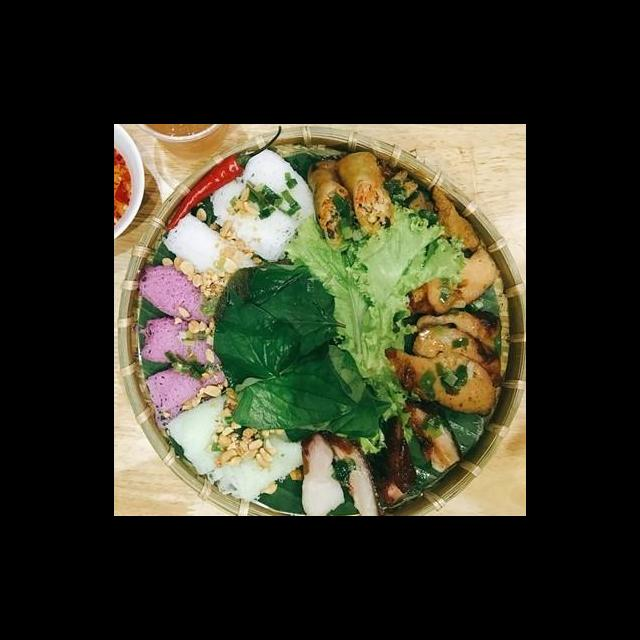banh hoi: (163, 384, 256, 481), (206, 175, 302, 268), (201, 425, 309, 506), (157, 209, 261, 290), (138, 358, 235, 440), (235, 145, 319, 227), (132, 260, 226, 329), (131, 313, 235, 367)
banh hoi heo quay: (128, 172, 526, 513)
thit heo quay: (400, 393, 464, 476), (327, 432, 388, 516), (371, 406, 422, 505), (296, 425, 349, 516)
